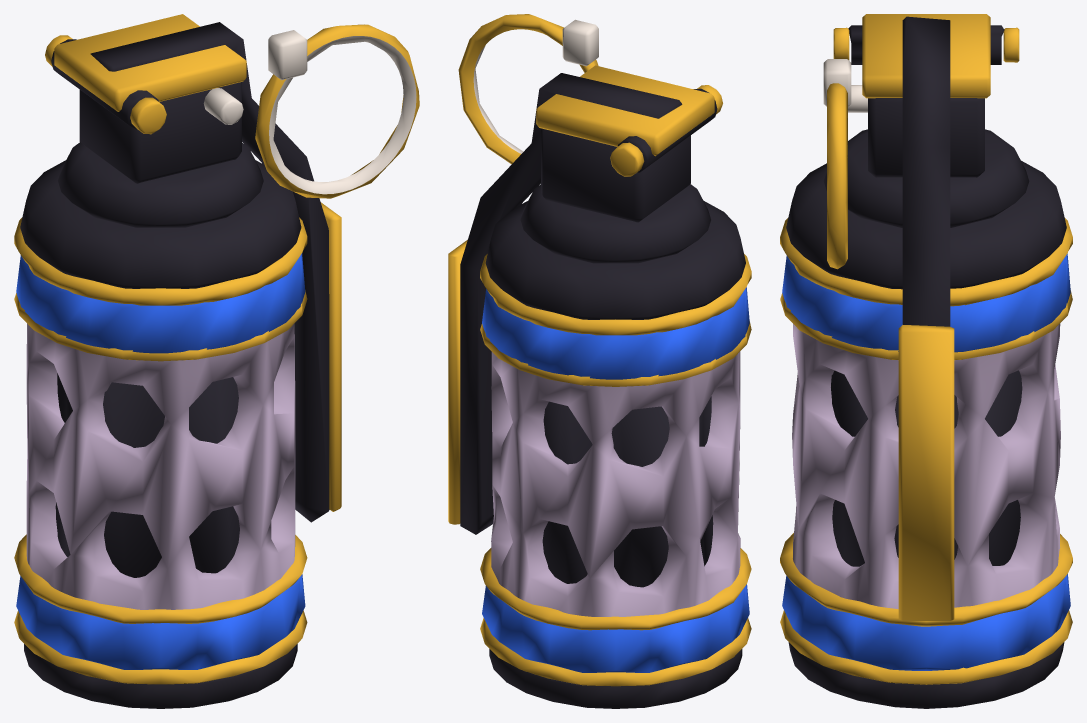
3 views of the same model, side by side, from view 1: azimuth 30°, elevation 25°; view 2: azimuth 150°, elevation 25°; view 3: azimuth 270°, elevation 25° (orthographic). The views are drawn at different scales.
Parts seen in each view (by area): view 1: object 2, body; view 2: object 2, body; view 3: object 2, body.
Boxes of the visible parts, x1,y1,x2,y2 form: object 2: [14, 14, 419, 708]; body: [26, 323, 295, 609]; object 2: [448, 14, 751, 708]; body: [491, 351, 740, 616]; object 2: [780, 14, 1072, 708]; body: [792, 323, 1060, 609].
Bounding box in the file's own units: 0.1985 × 0.3535 × 0.148.
